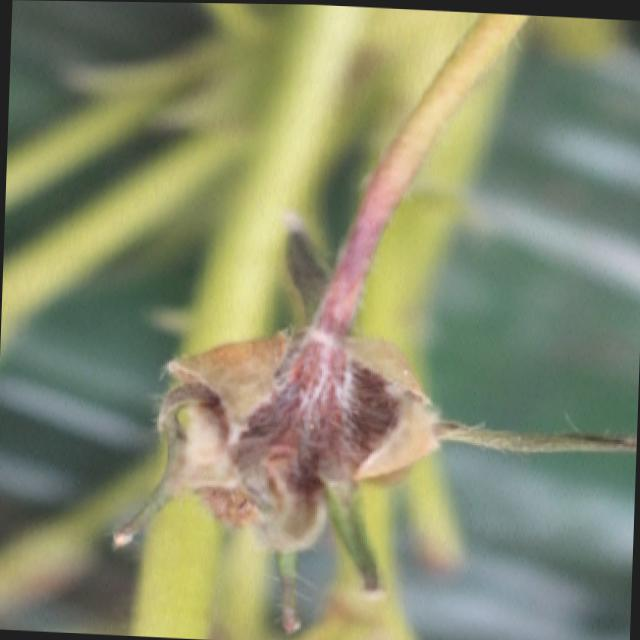Gray Mold: (110, 218, 517, 636)
